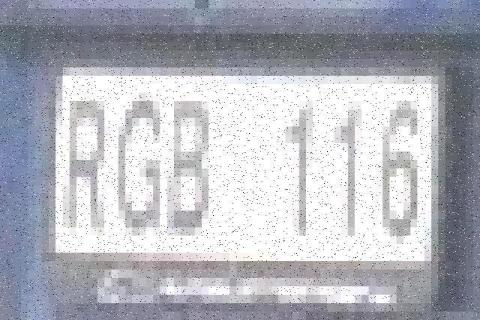LicensePlate: (51, 38, 449, 272)
